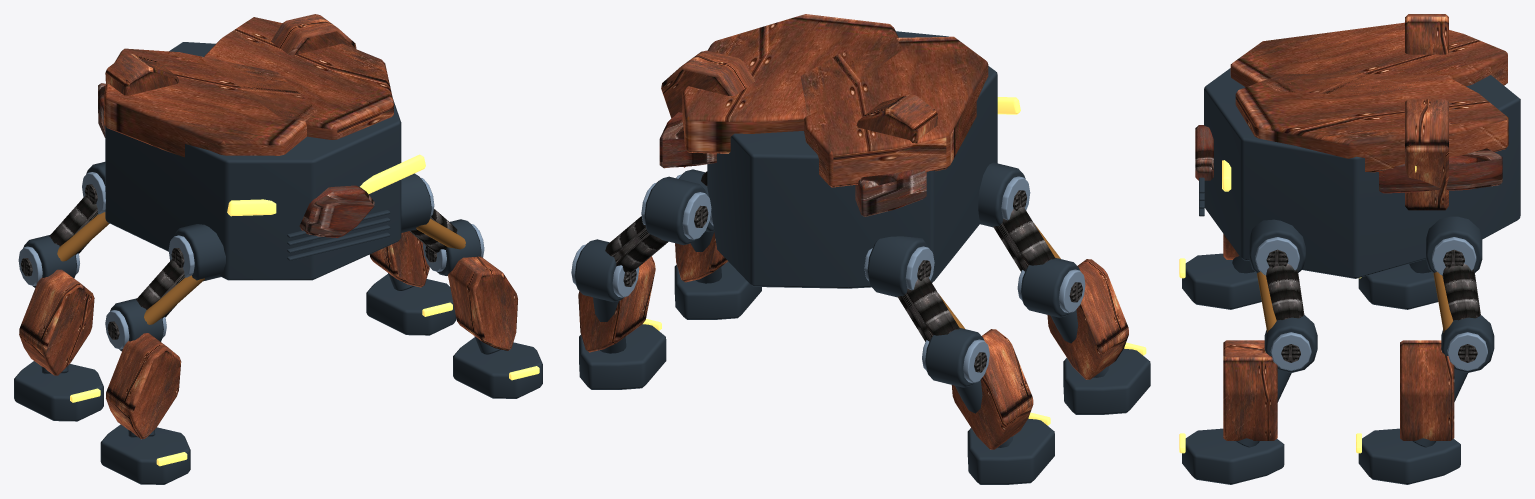
Rendered from quad.glb.
The picture shows the model from 3 angles, left to right: view 1: azimuth 30°, elevation 25°; view 2: azimuth 150°, elevation 25°; view 3: azimuth 270°, elevation 25°; orthographic projection. The views are drawn at different scales.
Visible parts, largest first — view 1: Sloped crawler body, Layered beetle carapace, Servo housing.002, Servo housing.006, Swept crawler greave, Swept crawler greave.001, Servo housing, Swept crawler greave.003, Servo housing.004, Swept cobalt shell, Swept crawler greave.002, Crawler eye (+9 smaller); view 2: Layered beetle carapace, Sloped crawler body, Servo housing, Servo housing.004, Servo housing.002, Swept crawler greave, Swept crawler greave.001, Servo housing.006, Swept cobalt shell, Swept crawler greave.002, Hub.004, Hub (+5 smaller); view 3: Layered beetle carapace, Sloped crawler body, Servo housing.004, Servo housing.006, Swept crawler greave.003, Swept crawler greave.002, Swept cobalt shell, Servo housing.002, Servo housing, Hub.012, Hub.008, Bearing ring.012 (+3 smaller).
Boxes of the visible parts, box(x1,y1,x2,y2) form: Sloped crawler body: box(105, 42, 401, 280); Layered beetle carapace: box(104, 14, 393, 157); Servo housing.002: box(100, 224, 225, 484); Servo housing.006: box(401, 173, 542, 398); Swept crawler greave: box(19, 269, 94, 375); Swept crawler greave.001: box(106, 333, 181, 439); Servo housing: box(14, 162, 105, 421); Swept crawler greave.003: box(448, 256, 517, 350); Servo housing.004: box(366, 273, 456, 335); Swept cobalt shell: box(98, 83, 374, 237); Swept crawler greave.002: box(369, 231, 429, 287); Crawler eye: box(227, 154, 425, 216); Layered beetle carapace: box(661, 14, 988, 187); Sloped crawler body: box(707, 31, 997, 288); Servo housing: box(867, 236, 1054, 484); Servo housing.004: box(574, 176, 706, 389); Servo housing.002: box(978, 162, 1150, 414); Swept crawler greave: box(951, 329, 1033, 449); Swept crawler greave.001: box(1047, 259, 1128, 379); Servo housing.006: box(674, 169, 761, 319); Swept cobalt shell: box(659, 112, 926, 216); Swept crawler greave.002: box(578, 256, 655, 352); Hub.004: box(993, 190, 1082, 302); Hub: box(897, 260, 987, 372); Layered beetle carapace: box(1230, 14, 1508, 210); Sloped crawler body: box(1199, 68, 1520, 278); Servo housing.004: box(1358, 216, 1494, 484); Servo housing.006: box(1182, 219, 1317, 484); Swept crawler greave.003: box(1223, 340, 1277, 440); Swept crawler greave.002: box(1400, 340, 1454, 440); Swept cobalt shell: box(1195, 125, 1502, 193); Servo housing.002: box(1182, 253, 1261, 309); Servo housing: box(1358, 259, 1438, 309); Hub.012: box(1266, 249, 1304, 362); Hub.008: box(1442, 249, 1480, 362); Bearing ring.012: box(1255, 237, 1311, 370).
Size of the model in its own units: 1.46 by 1.04 by 1.
Materials: 8 (3 with a texture image).
